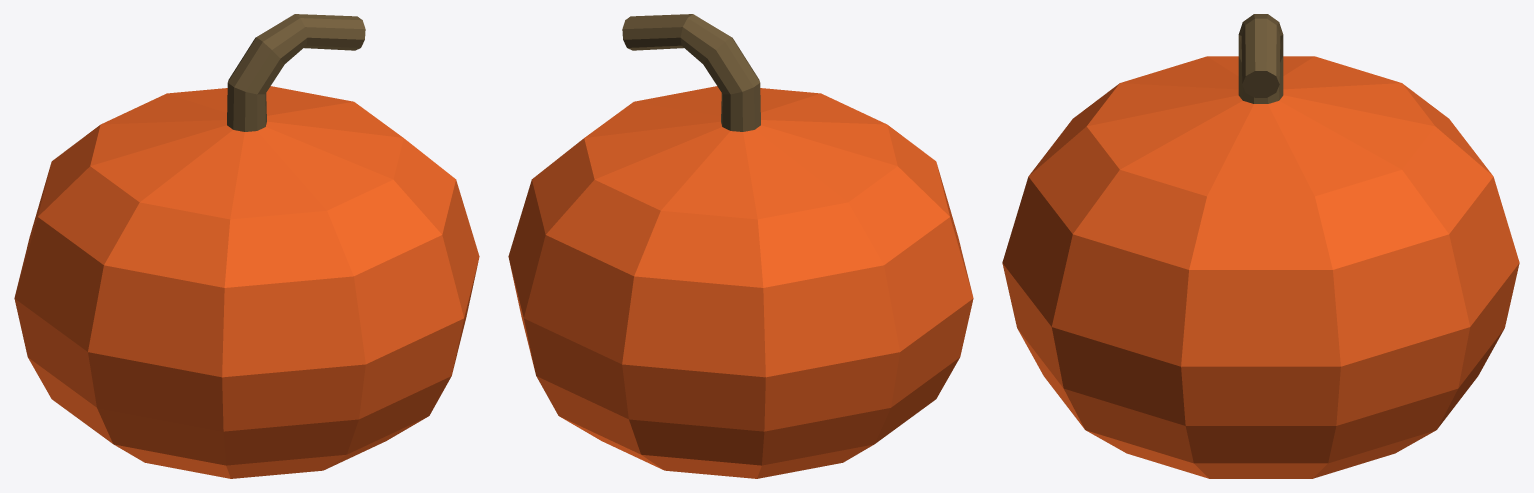
The model's file is Pumpkin_1.fbx.
3 views of the same model, side by side, from view 1: azimuth 30°, elevation 25°; view 2: azimuth 150°, elevation 25°; view 3: azimuth 270°, elevation 25° (orthographic). The views are drawn at different scales.
Visible parts, largest first — view 1: Pumpkin_1; view 2: Pumpkin_1; view 3: Pumpkin_1.
Part boxes in pixels (bbox=[...]): Pumpkin_1: bbox=[14, 14, 479, 478]; Pumpkin_1: bbox=[508, 14, 973, 478]; Pumpkin_1: bbox=[1002, 14, 1519, 478].
Bounding box in the file's own units: 56.26 × 56.09 × 59.15.
